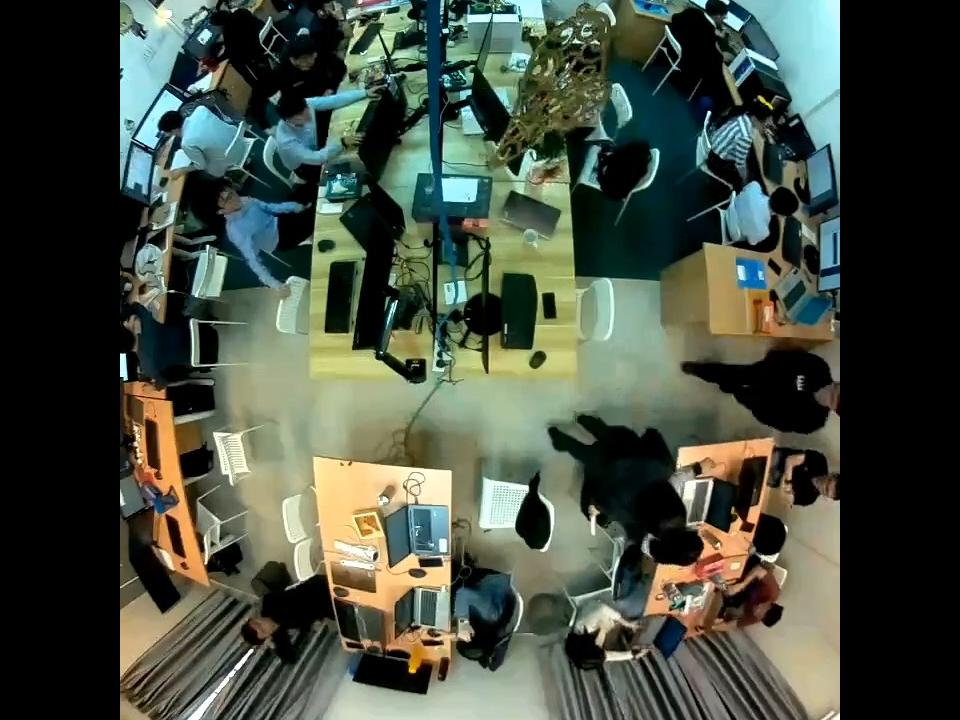name-tag: (794, 371, 808, 392)
